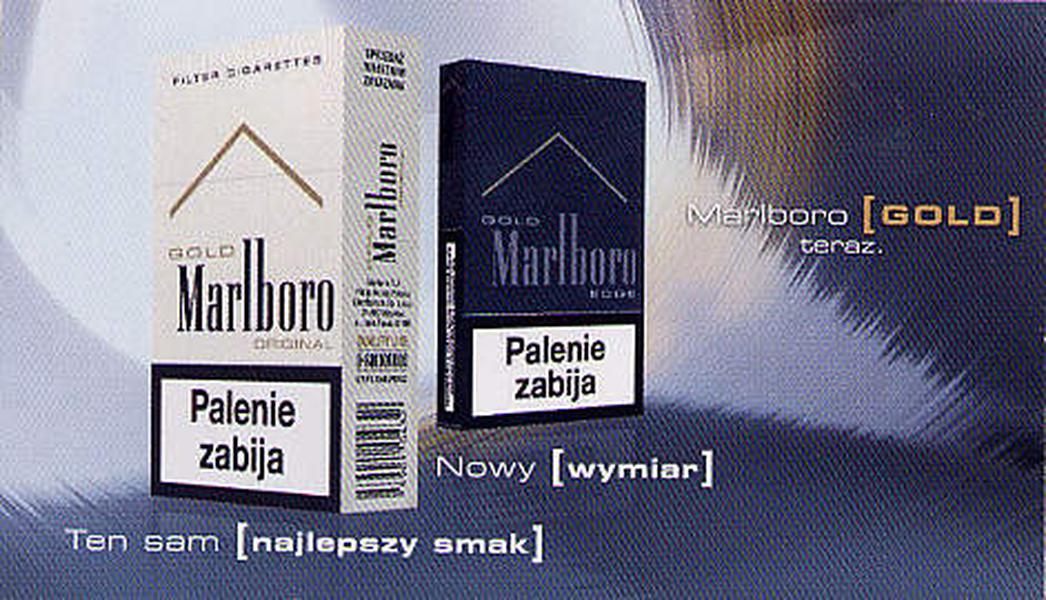marlboro_gold: (156, 39, 351, 498)
